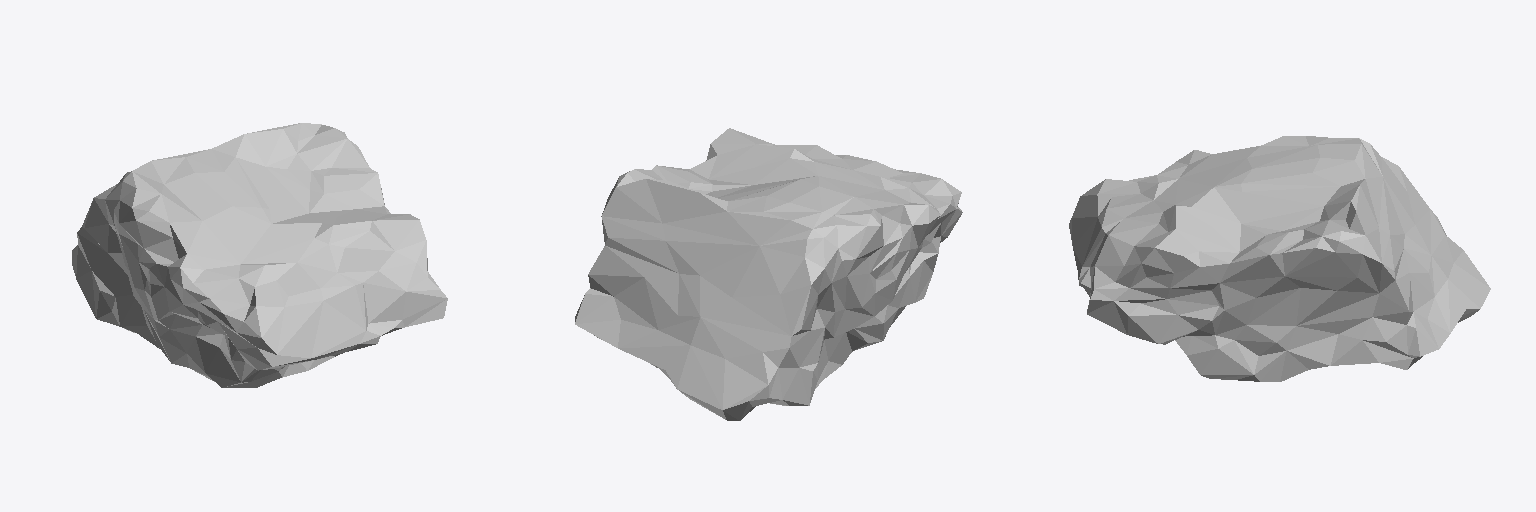
File: rock.obj
The picture shows the model from 3 angles: view 1: azimuth 30°, elevation 25°; view 2: azimuth 150°, elevation 25°; view 3: azimuth 270°, elevation 25°; orthographic projection.
Size of the model in its own units: 699 by 465 by 1039.